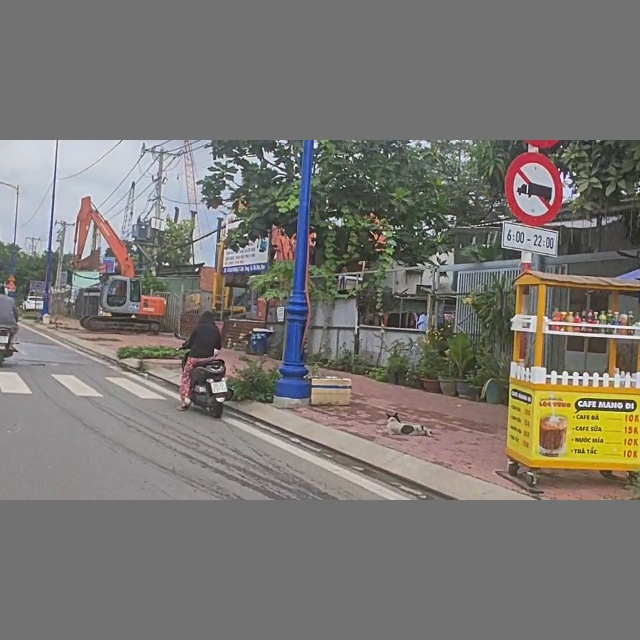B.8a: (506, 151, 565, 227)
